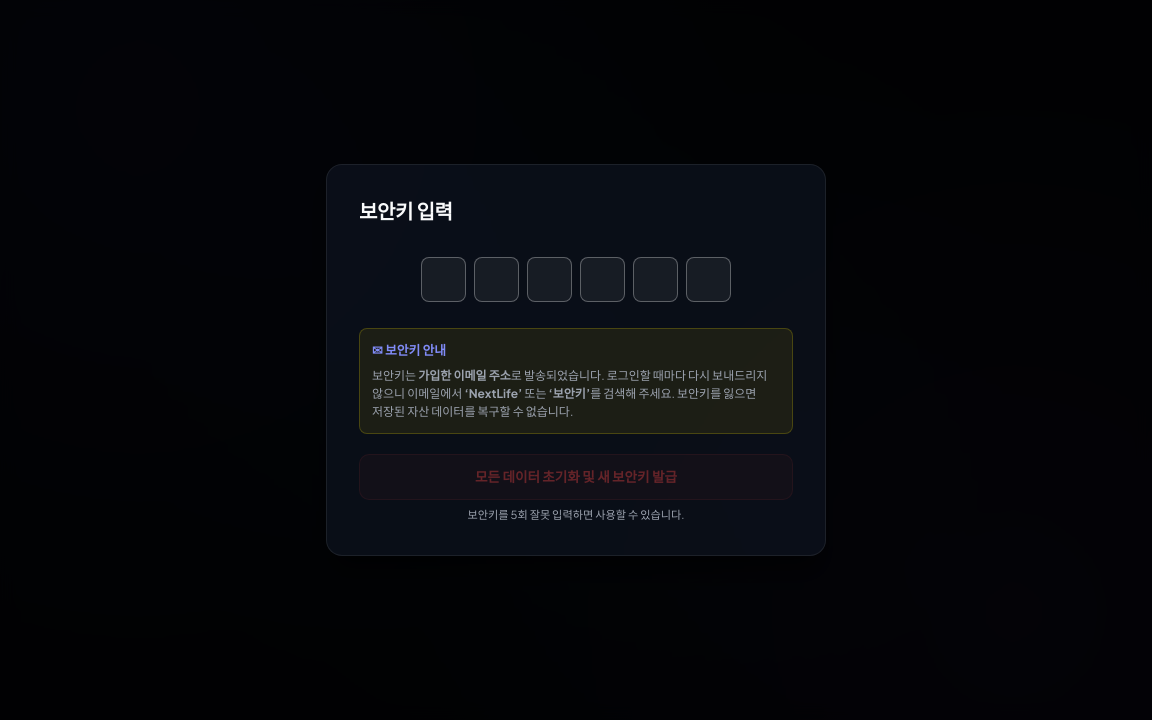
Test: E2eeKeyManager — 복구 실패와 탈출구 › 잠금이 걸려도 초기화 버튼은 계속 활성이다
In the password field named "보안키 1번째 자리": [444, 280] box [421,257,466,302], type "WRONG1"
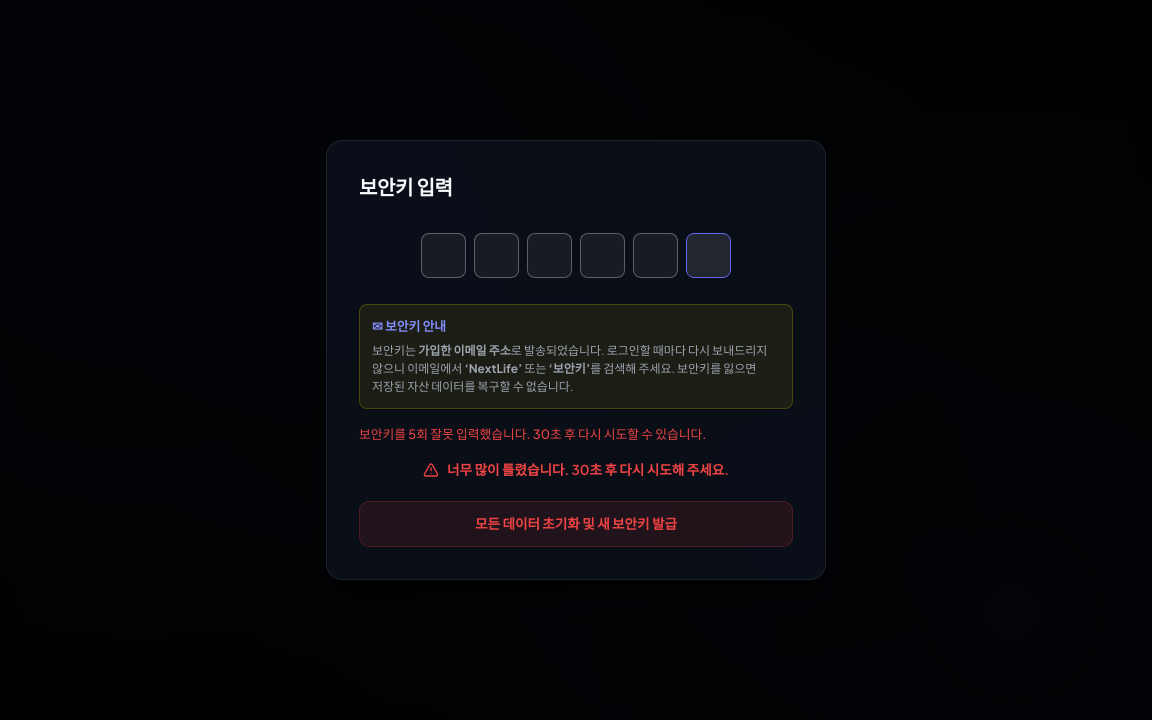
Expected: the password field named "보안키 1번째 자리" is disabled, [421,233,466,278]
Expected: the text "너무 많이 틀렸습니다. 30초 후 다시 시도해 주세요." is shown, [447,460,729,481]
Expected: the button "모든 데이터 초기화 및 새 보안키 발급" is enabled, [359,501,793,547]
